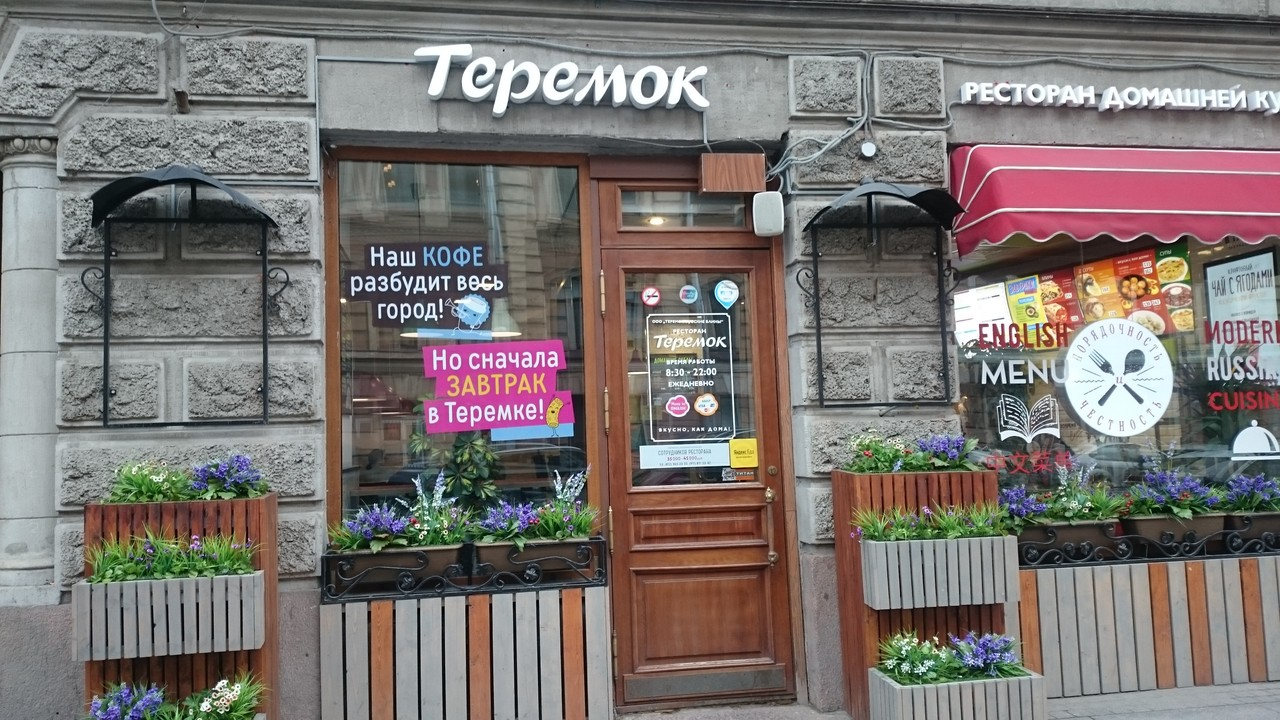door: (603, 250, 792, 703)
signboard: (412, 40, 711, 113), (958, 78, 1280, 118)
window: (323, 155, 589, 554)
